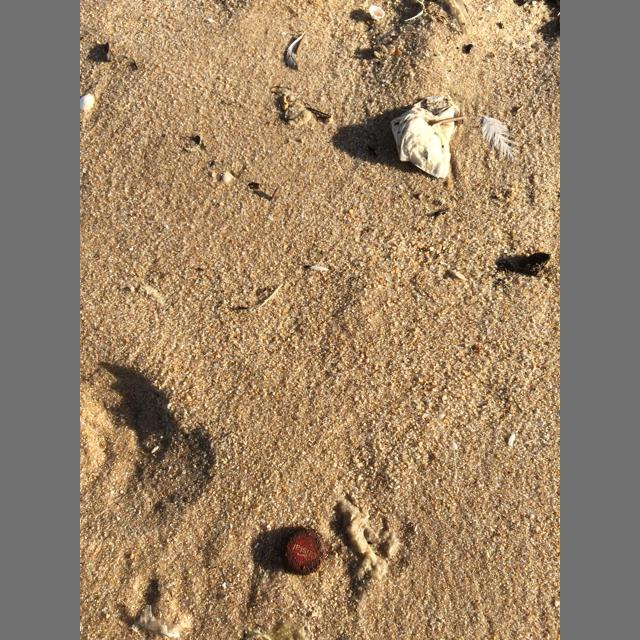litter: (390, 95, 460, 178), (283, 528, 327, 575), (131, 605, 181, 638), (443, 1, 476, 32)
